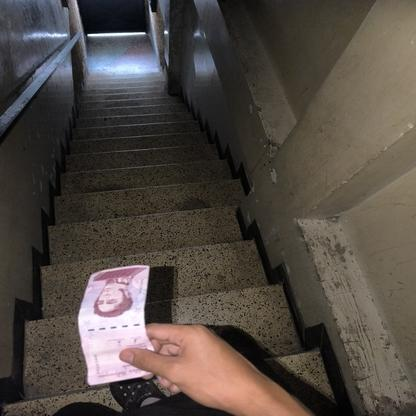one_hundred-front-vef: (78, 264, 154, 386)
